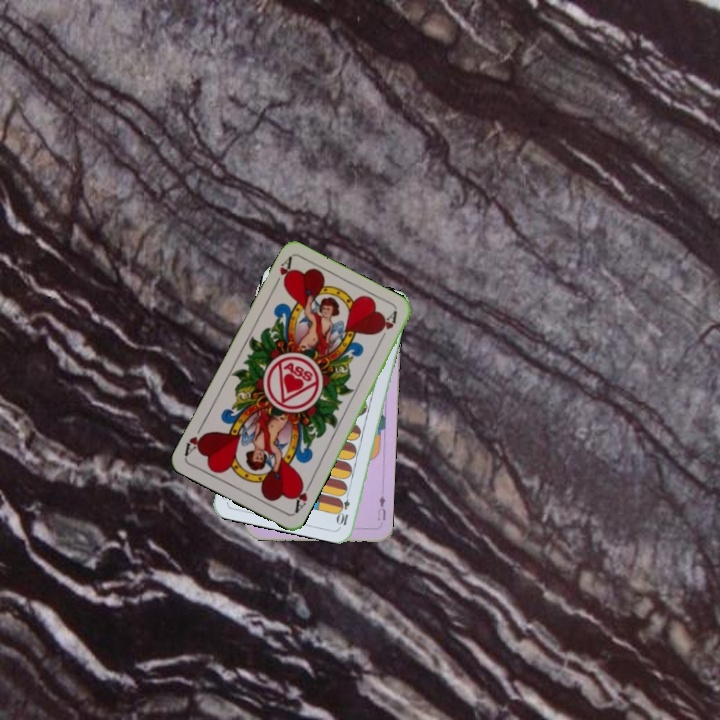E10: (335, 487, 353, 528)
EU: (373, 491, 388, 523)
HA: (269, 253, 295, 291), (290, 477, 314, 516)
